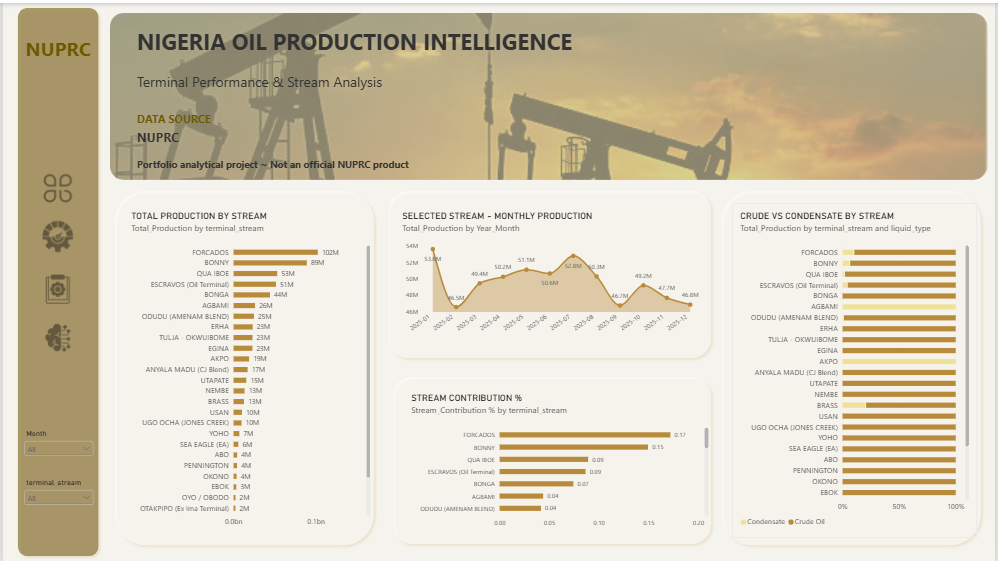

The page's visual inventory and layout, read from the dashboard file:
{"tool":"powerbi","page":{"name":"Terminal Performance","canvas":[1920,1080],"ordinal":1},"visuals":[{"type":"shape","box":[1382.5,355,520,705],"z":0},{"type":"shape","box":[745,715,635,342.5],"z":1000},{"type":"shape","box":[737.5,355,642.5,342.5],"z":2000},{"type":"shape","box":[207.5,355,520,705],"z":3000},{"type":"shape","box":[206.2,19.1,1698.7,323.1],"z":4000},{"type":"lineChart","title":"SELECTED STREAM - MONTHLY PRODUCTION","fields":{"Category":["DimDate.Year_Month"],"Y":["FactProduction.Total_Production"]},"box":[757.5,387.5,607.5,280],"z":6000},{"type":"hundredPercentStackedBarChart","title":"CRUDE VS CONDENSATE BY STREAM","fields":{"Category":["FactProduction.terminal_stream"],"Y":["FactProduction.Total_Production"],"Series":["FactProduction.liquid_type"]},"box":[1410,387.5,475,647.5],"z":7000},{"type":"clusteredBarChart","title":"STREAM CONTRIBUTION %","fields":{"Category":["FactProduction.terminal_stream"],"Y":["FactProduction.Stream_Contribution %"]},"box":[775,740,607.5,295],"z":8000},{"type":"image","box":[207.1,19.4,1695.5,323.2],"z":9000},{"type":"textbox","box":[260,300,540,55.3],"z":10000},{"type":"textbox","box":[259.4,244.5,108.4,55.3],"z":11000},{"type":"textbox","box":[259.4,208.3,157.3,36.1],"z":12000},{"type":"textbox","box":[259.4,133.9,496.4,58],"z":13000},{"type":"textbox","box":[259.4,44.6,892,88.2],"z":14000},{"type":"shape","box":[20,0,175,1080],"z":15000},{"type":"clusteredBarChart","title":"TOTAL PRODUCTION BY STREAM","fields":{"Category":["FactProduction.terminal_stream"],"Y":["FactProduction.Total_Production"]},"box":[232.5,387.5,495,647.5],"z":16000},{"type":"image","box":[75.9,327.5,60.7,62.9],"z":17000},{"type":"image","box":[75.9,407.7,60.7,86.7],"z":18000},{"type":"image","box":[75.9,516.1,60.7,73.7],"z":19000},{"type":"textbox","box":[38,62.9,136.6,71.6],"z":20000},{"type":"slicer","fields":{"Values":["DimDate.Month"]},"box":[36.9,824.1,143.1,78.1],"z":21000},{"type":"slicer","fields":{"Values":["FactProduction.terminal_stream"]},"box":[36.9,919.5,143.1,80.2],"z":22000},{"type":"image","box":[75.9,607.2,60.7,80.2],"z":23000}]}

Visuals, with their boxes on the page's 1920x1080 design canvas (x1, y1, x2, y2). These are canvas units, not pixel positions in the 998x561 screenshot, which may show the page scaled, cropped or inside an application window:
shape: (left=1382, top=355, right=1902, bottom=1060)
shape: (left=745, top=715, right=1380, bottom=1058)
shape: (left=738, top=355, right=1380, bottom=698)
shape: (left=208, top=355, right=728, bottom=1060)
shape: (left=206, top=19, right=1905, bottom=342)
"SELECTED STREAM - MONTHLY PRODUCTION" lineChart: (left=758, top=388, right=1365, bottom=668)
"CRUDE VS CONDENSATE BY STREAM" hundredPercentStackedBarChart: (left=1410, top=388, right=1885, bottom=1035)
"STREAM CONTRIBUTION %" clusteredBarChart: (left=775, top=740, right=1382, bottom=1035)
image: (left=207, top=19, right=1903, bottom=343)
textbox: (left=260, top=300, right=800, bottom=355)
textbox: (left=259, top=244, right=368, bottom=300)
textbox: (left=259, top=208, right=417, bottom=244)
textbox: (left=259, top=134, right=756, bottom=192)
textbox: (left=259, top=45, right=1151, bottom=133)
shape: (left=20, top=0, right=195, bottom=1080)
"TOTAL PRODUCTION BY STREAM" clusteredBarChart: (left=232, top=388, right=728, bottom=1035)
image: (left=76, top=328, right=137, bottom=390)
image: (left=76, top=408, right=137, bottom=494)
image: (left=76, top=516, right=137, bottom=590)
textbox: (left=38, top=63, right=175, bottom=134)
slicer - DimDate.Month: (left=37, top=824, right=180, bottom=902)
slicer - FactProduction.terminal_stream: (left=37, top=920, right=180, bottom=1000)
image: (left=76, top=607, right=137, bottom=687)
